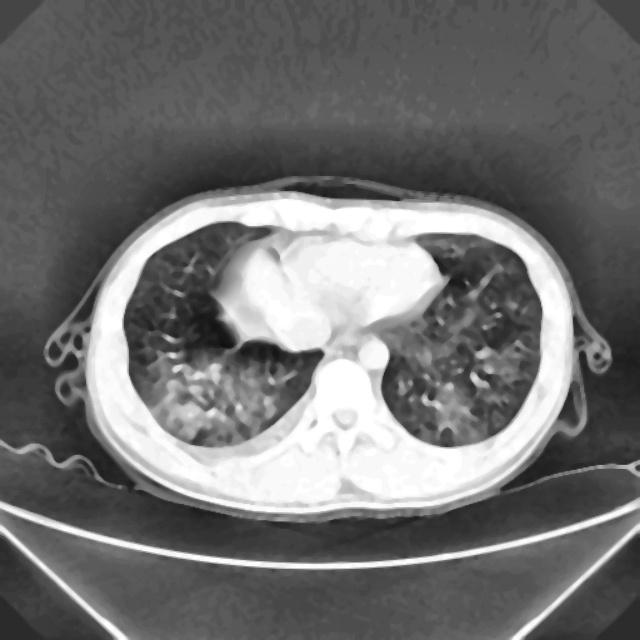covid: (53, 175, 611, 524)
